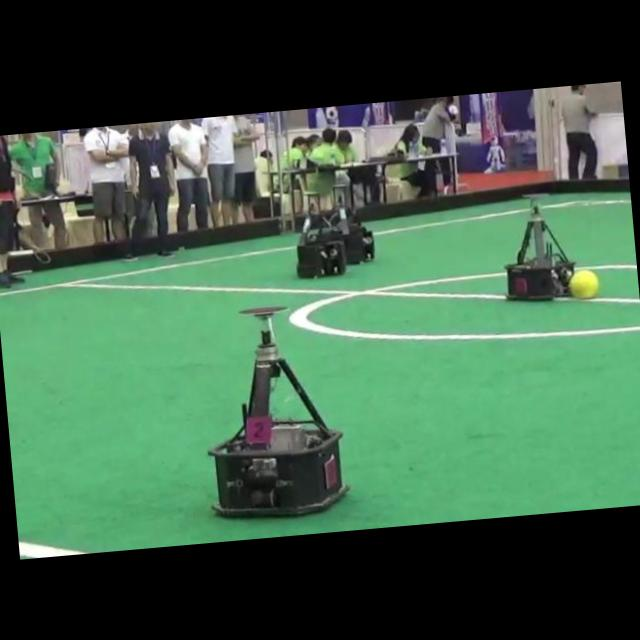ball: (568, 269, 598, 298)
robot: (209, 307, 347, 516), (505, 195, 573, 298), (296, 191, 346, 278), (333, 184, 375, 263)
